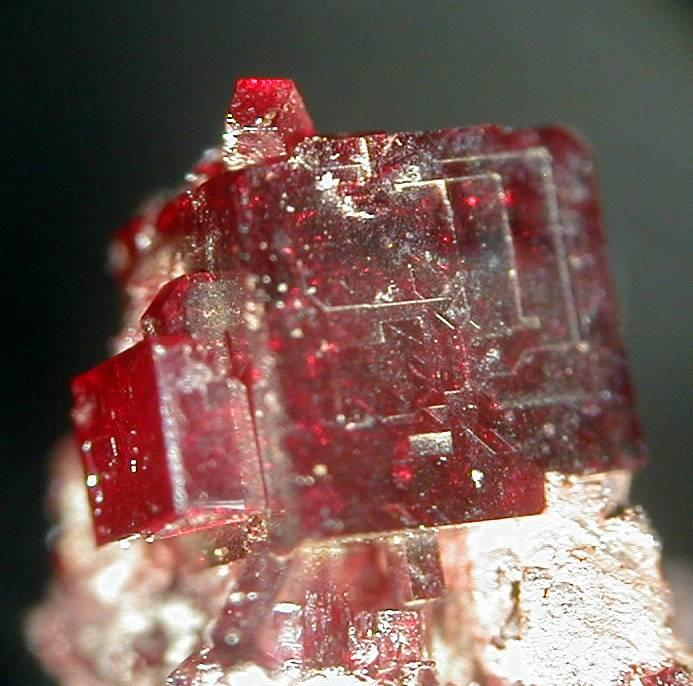cuprite: (72, 79, 644, 684)
